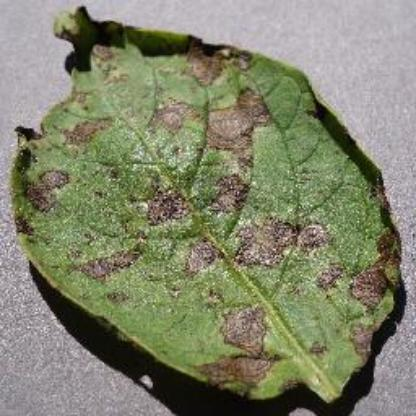Early-Blight: (12, 5, 412, 410)
